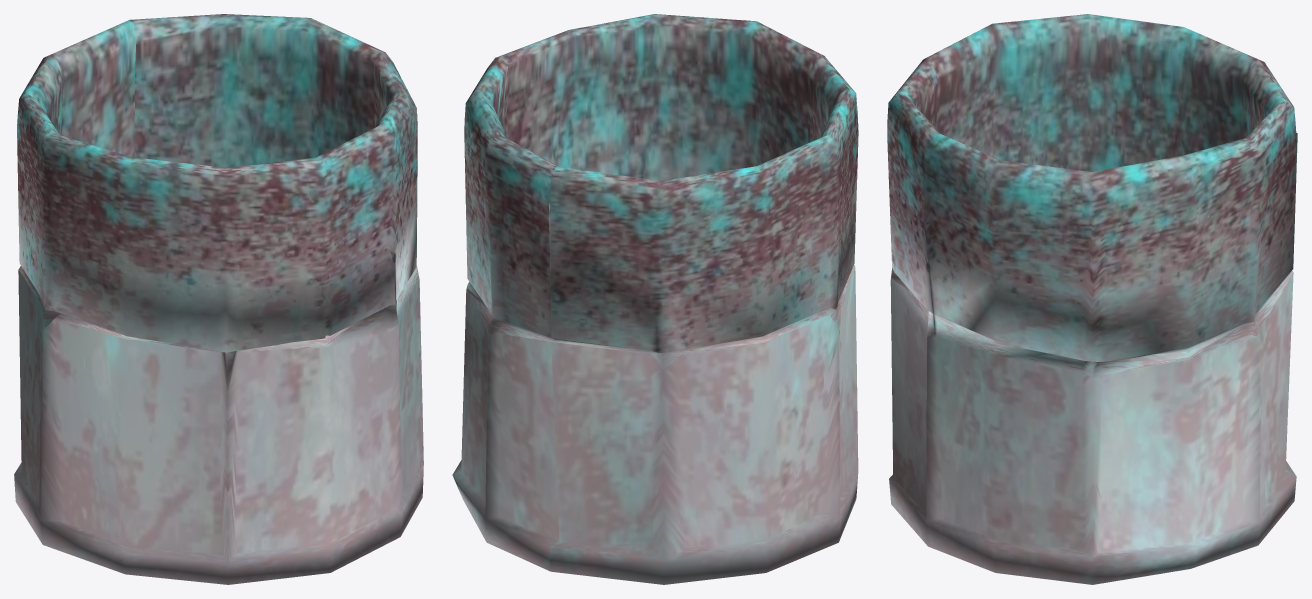
The model's file is trashcan.fbx.
3 renders of one model, left to right at view 1: azimuth 30°, elevation 25°; view 2: azimuth 150°, elevation 25°; view 3: azimuth 270°, elevation 25°, orthographic.
Visible parts, largest first — view 1: trashcan; view 2: trashcan; view 3: trashcan.
Boxes of the visible parts, x1,y1,x2,y2 form: trashcan: (14, 14, 423, 584); trashcan: (452, 14, 858, 584); trashcan: (887, 14, 1297, 584).
Size of the model in its own units: 83.42 by 83.3 by 92.38.
1 material, 1 textured.
